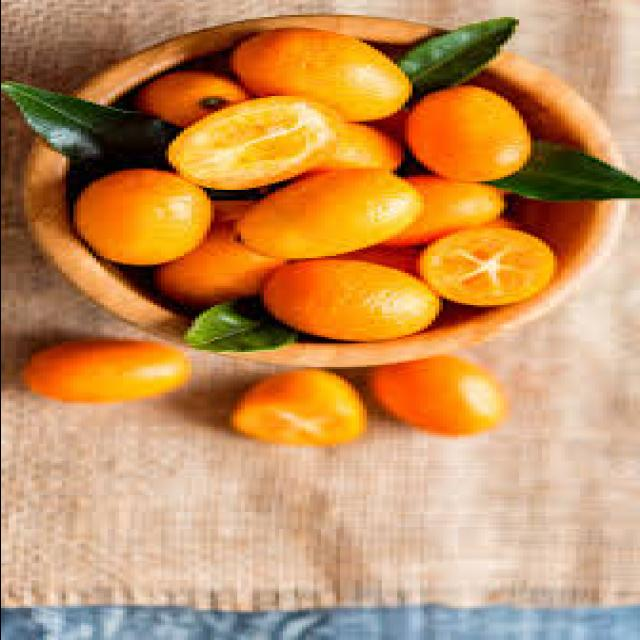orange: (266, 264, 434, 352)
